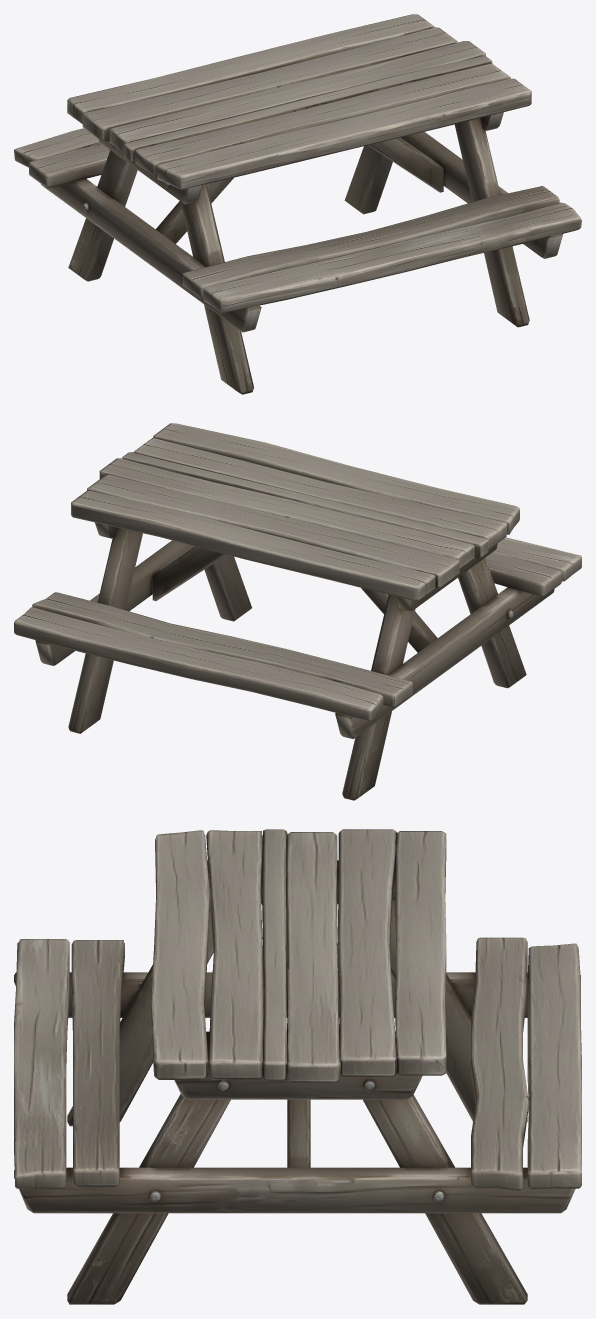
The model's file is selected.glb.
The picture shows the model from 3 angles, top to bottom: view 1: azimuth 30°, elevation 25°; view 2: azimuth 150°, elevation 25°; view 3: azimuth 270°, elevation 25°; orthographic projection. The views are drawn at different scales.
Visible parts, largest first — view 1: tripo_node_bd51ac4d-7050-40a6-b318-f13a38e5f7ae; view 2: tripo_node_bd51ac4d-7050-40a6-b318-f13a38e5f7ae; view 3: tripo_node_bd51ac4d-7050-40a6-b318-f13a38e5f7ae.
Part boxes in pixels (box(x1,y1,x2,y2)): tripo_node_bd51ac4d-7050-40a6-b318-f13a38e5f7ae: box(14, 14, 581, 394); tripo_node_bd51ac4d-7050-40a6-b318-f13a38e5f7ae: box(14, 423, 581, 800); tripo_node_bd51ac4d-7050-40a6-b318-f13a38e5f7ae: box(14, 829, 581, 1304).
Bounding box in the file's own units: 0.9941 × 0.5215 × 0.998.
Materials: 1 (1 with a texture image).
